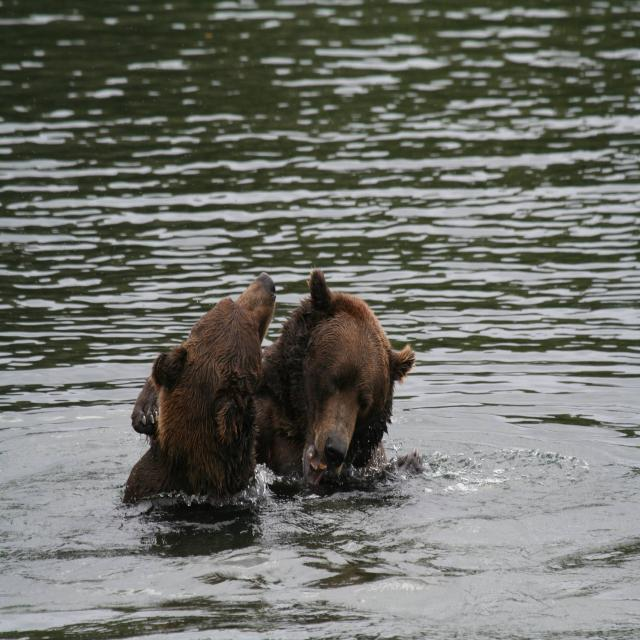bear face: (129, 269, 278, 491), (268, 268, 415, 489)
